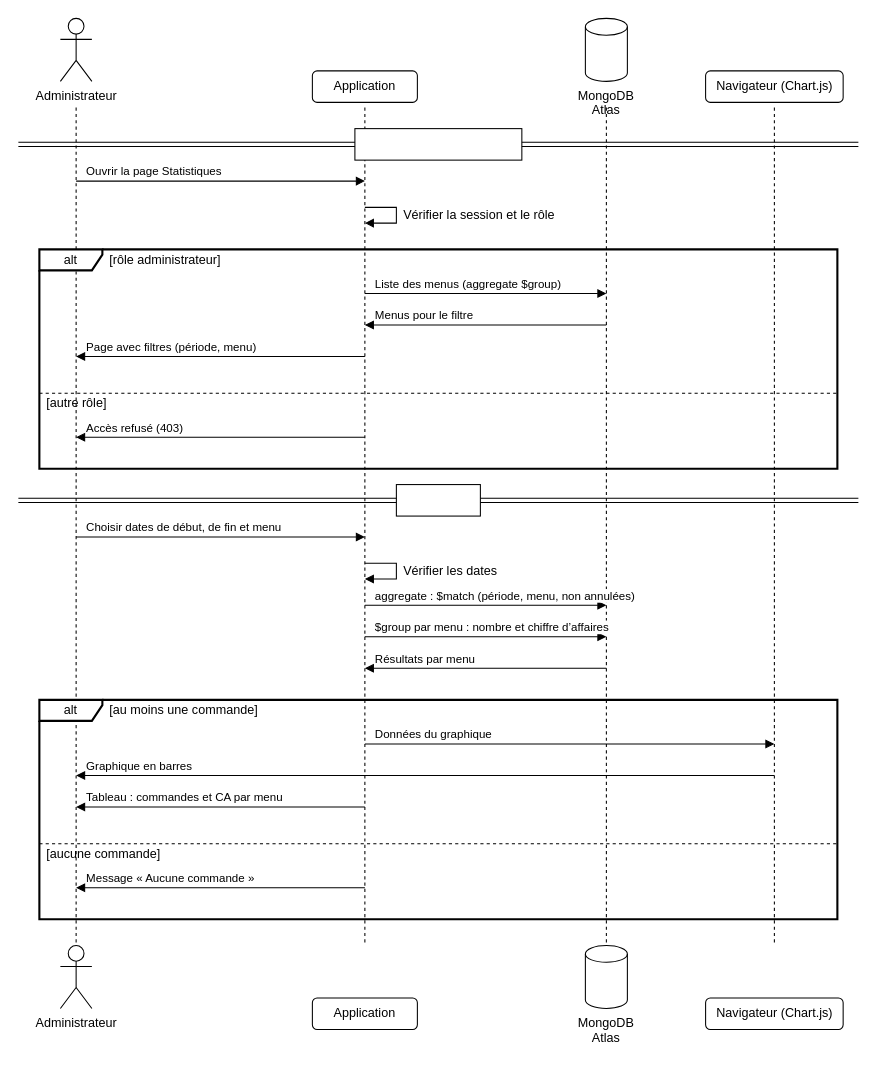
Some shapes in this 877 by 1065 pixel diagram are drawn without their labels. Each missing label, with the centre of its shape:
"Accès aux statistiques" goes at point 438,144.
"Filtrage" goes at point 437,500.
